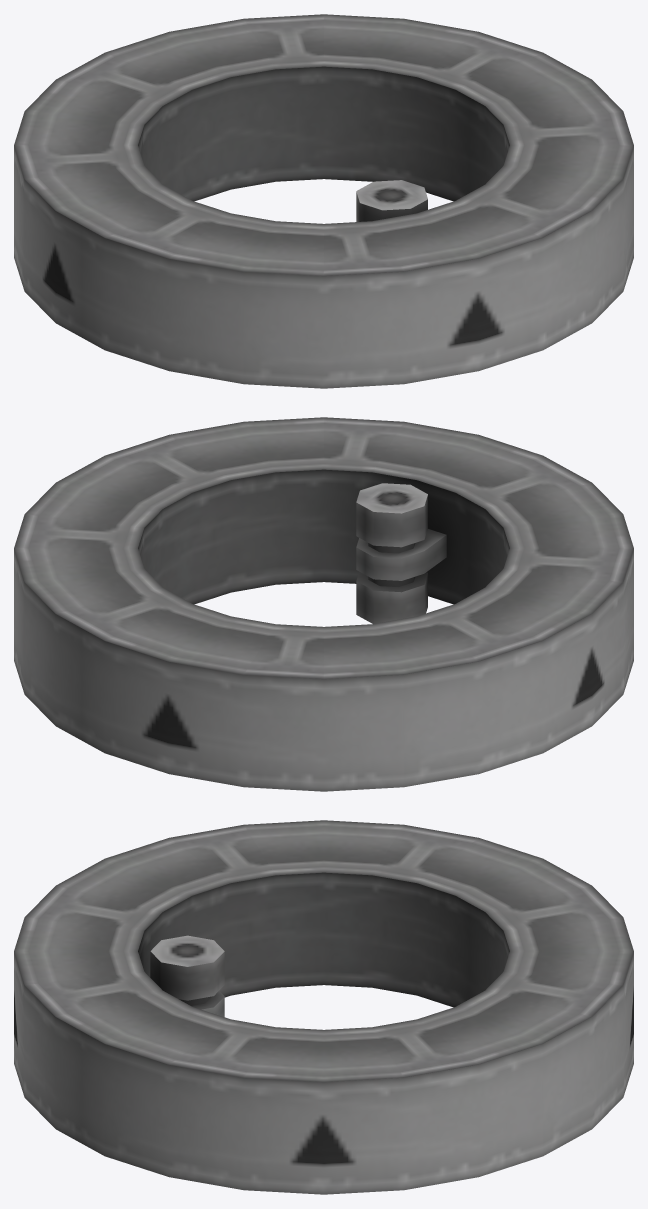
The model's file is castor_decoupler_s0_1.obj.
The picture shows the model from 3 angles, top to bottom: view 1: azimuth 30°, elevation 25°; view 2: azimuth 150°, elevation 25°; view 3: azimuth 270°, elevation 25°; orthographic projection.
Parts seen in each view (by area): view 1: mesh1; view 2: mesh1; view 3: mesh1.
Part boxes in pixels (box(x1,y1,x2,y2)): mesh1: box(14, 14, 633, 388); mesh1: box(14, 417, 633, 791); mesh1: box(14, 820, 633, 1194).
Size of the model in its own units: 0.625 by 0.125 by 0.625.
Materials: 1 (1 with a texture image).
